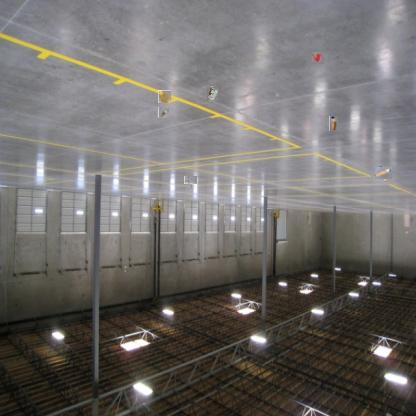dirty: (375, 166, 391, 180), (206, 86, 218, 100), (329, 115, 338, 131), (185, 175, 196, 186), (158, 107, 168, 118)
liquid: (158, 90, 171, 103), (312, 52, 324, 64)
